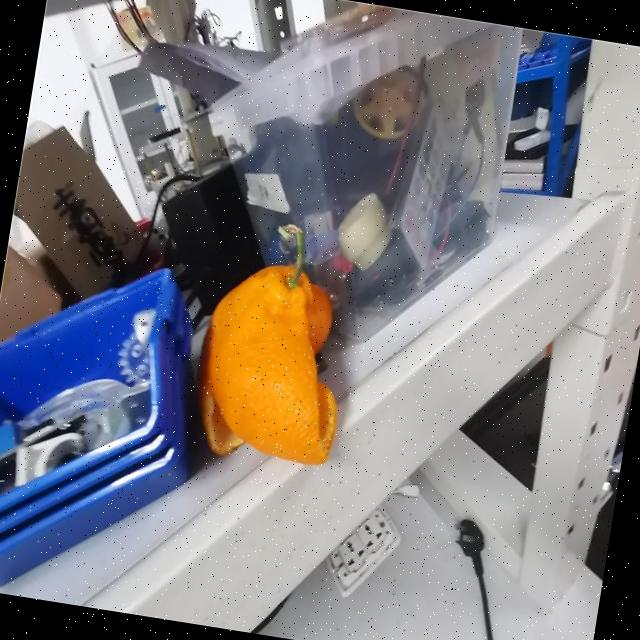orange-peel: (187, 250, 361, 470)
